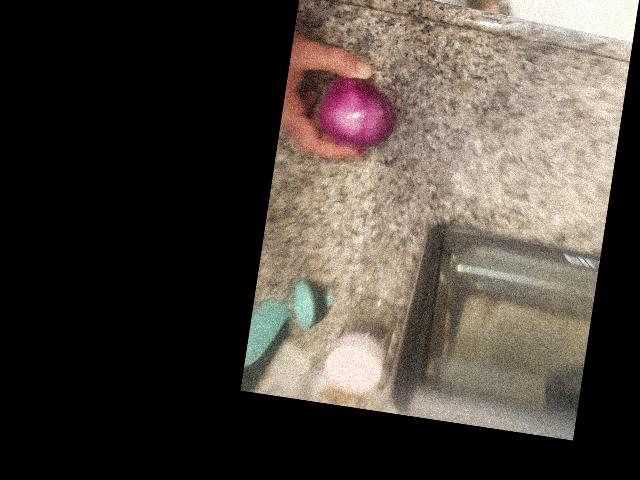onion: (523, 124, 613, 219)
